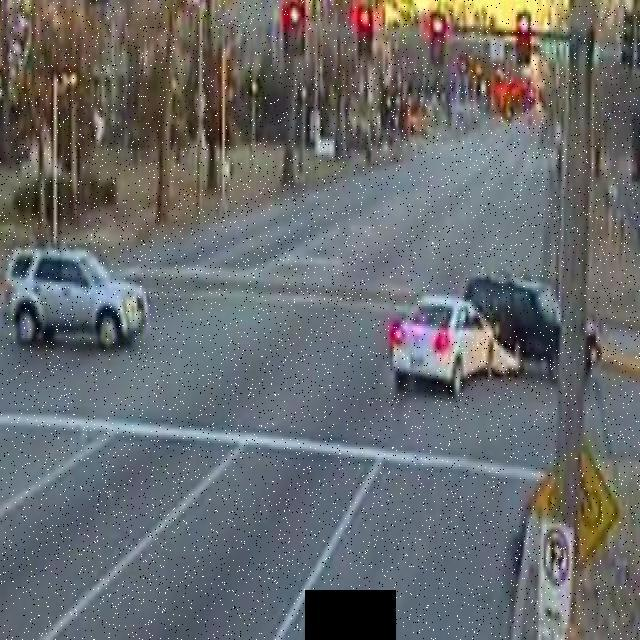moderate: (385, 264, 607, 402)
